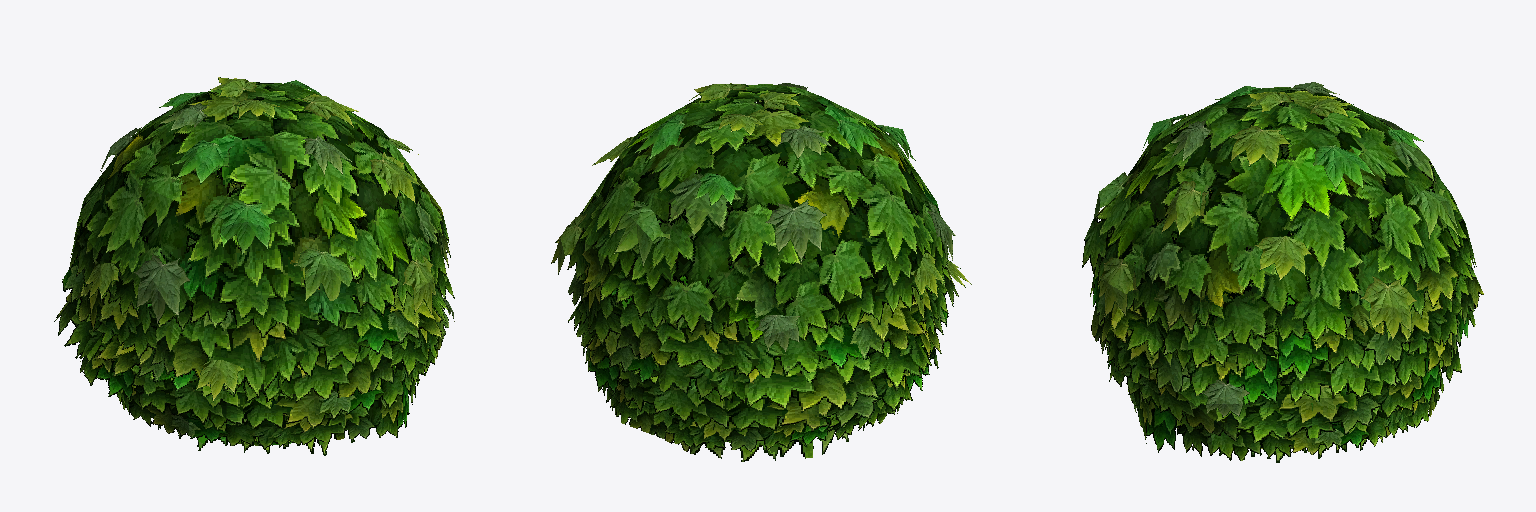
3 renders of one model, left to right at view 1: azimuth 30°, elevation 25°; view 2: azimuth 150°, elevation 25°; view 3: azimuth 270°, elevation 25°, orthographic.
Visible parts, largest first — view 1: bush; view 2: bush; view 3: bush.
Boxes of the visible parts, <box> form: bush: <box>54,77,454,455</box>; bush: <box>551,83,971,461</box>; bush: <box>1082,82,1483,462</box>.
Bounding box in the file's own units: 216 × 188 × 220.
1 materials, 1 textured.